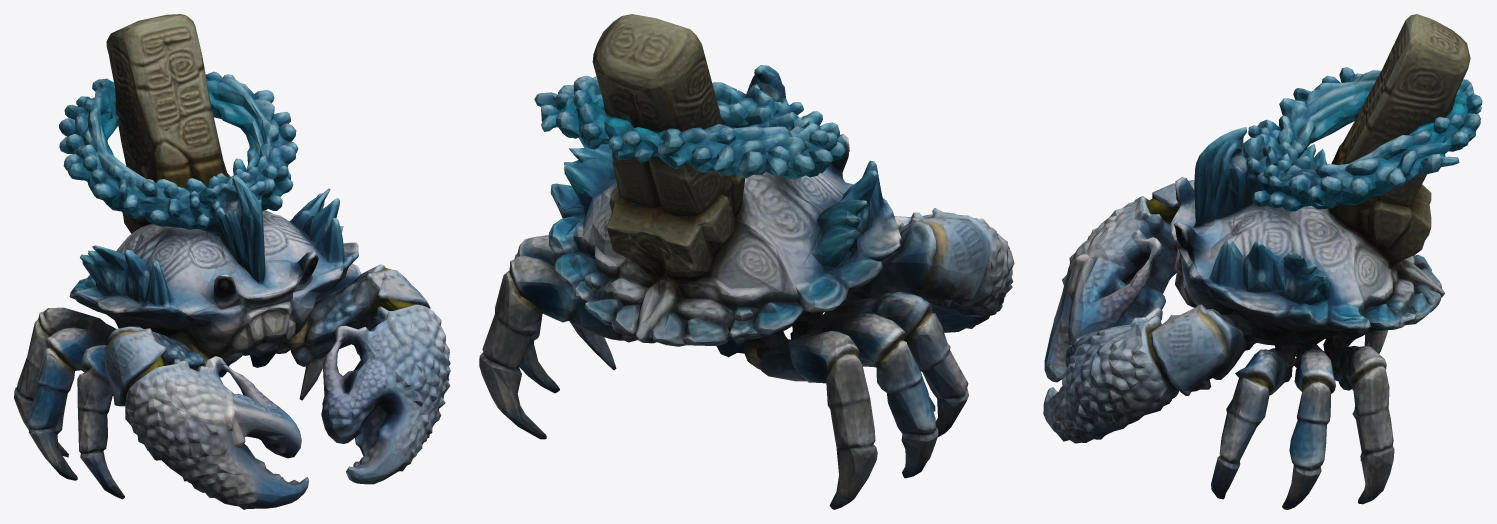
The model's file is atlacrab__tidebulwark.glb.
3 renders of one model, left to right at view 1: azimuth 30°, elevation 25°; view 2: azimuth 150°, elevation 25°; view 3: azimuth 270°, elevation 25°, orthographic. The views are drawn at different scales.
Visible parts, largest first — view 1: world; view 2: world; view 3: world.
Boxes of the visible parts, bbox=[...] form: world: bbox=[14, 14, 450, 509]; world: bbox=[479, 14, 1014, 509]; world: bbox=[1043, 14, 1482, 509].
Bounding box in the file's own units: 0.9219 × 0.961 × 0.9178.
Materials: 1 (1 with a texture image).
